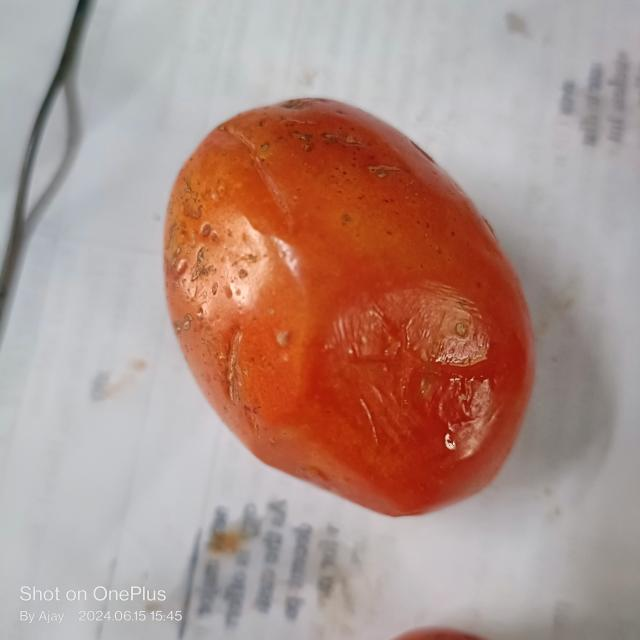Botrytis: (343, 357, 502, 383)
